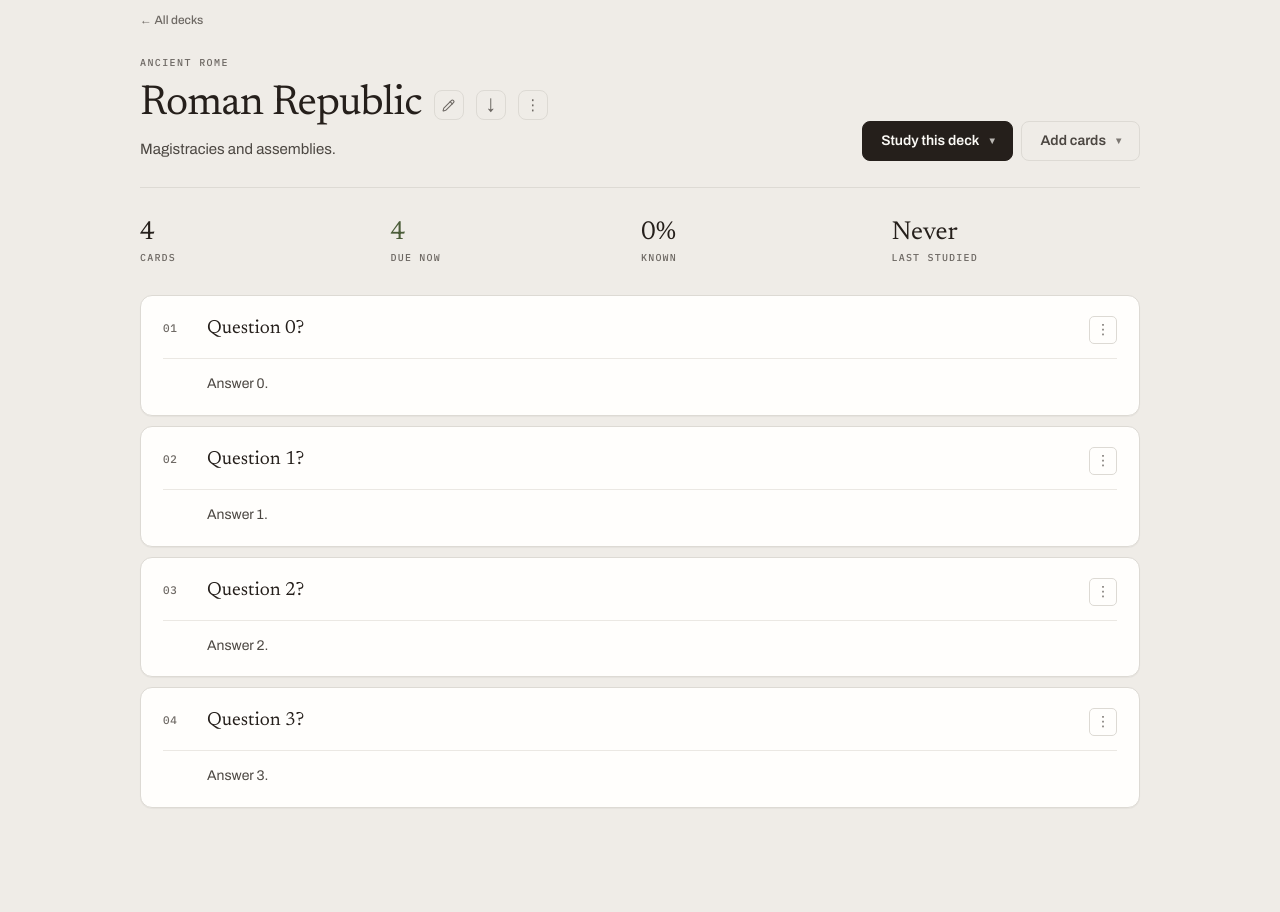
Test: Move to folder, on the deck’s own page › is in the deck menu, and says where the deck is
What coordinates should you click on to do the following:
click the button named "Deck options"
I would click on:
 (533, 105)
Its box is [518, 90, 548, 120].
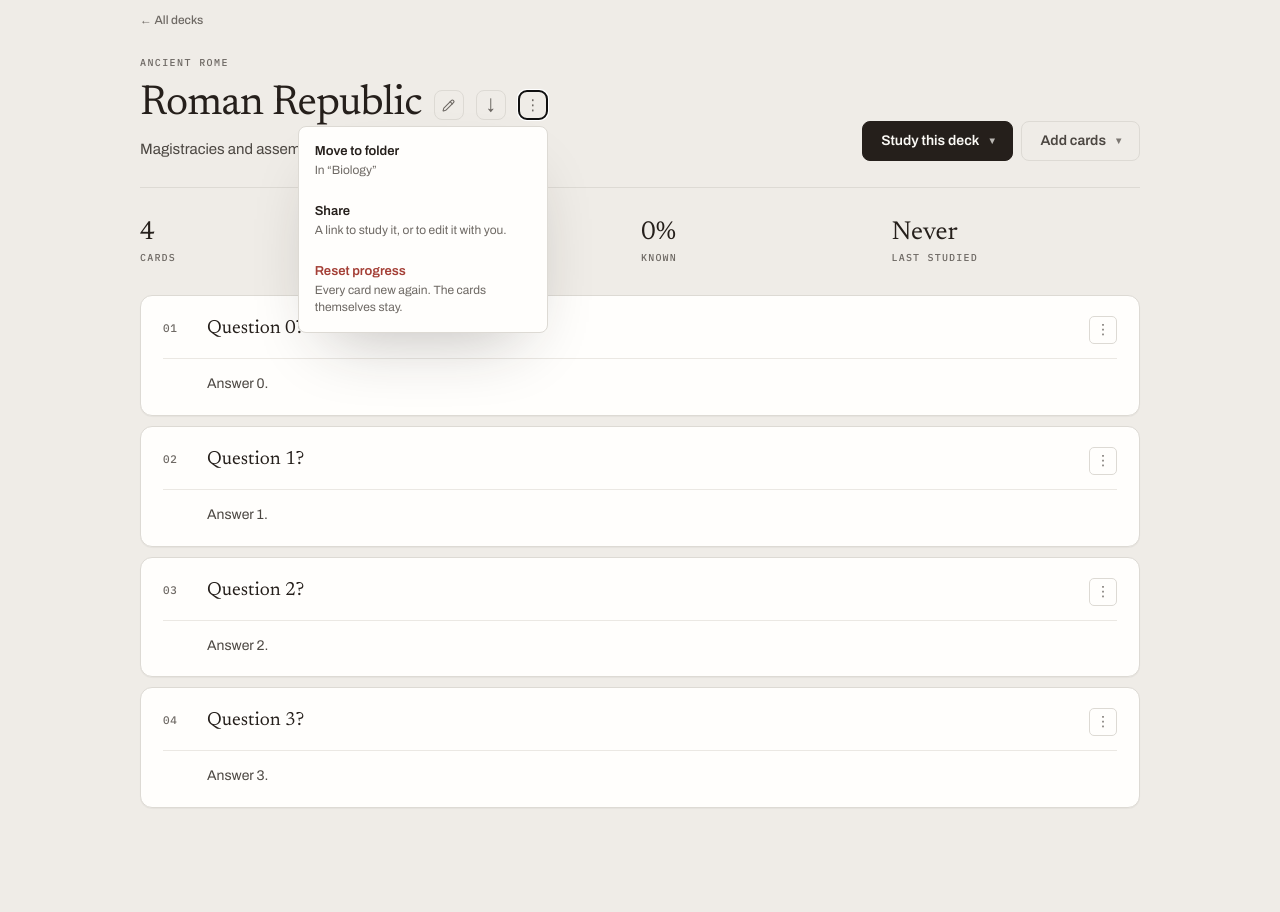
Check: the button "Move to folder In “Biology”" is shown, box [304, 132, 542, 190]
